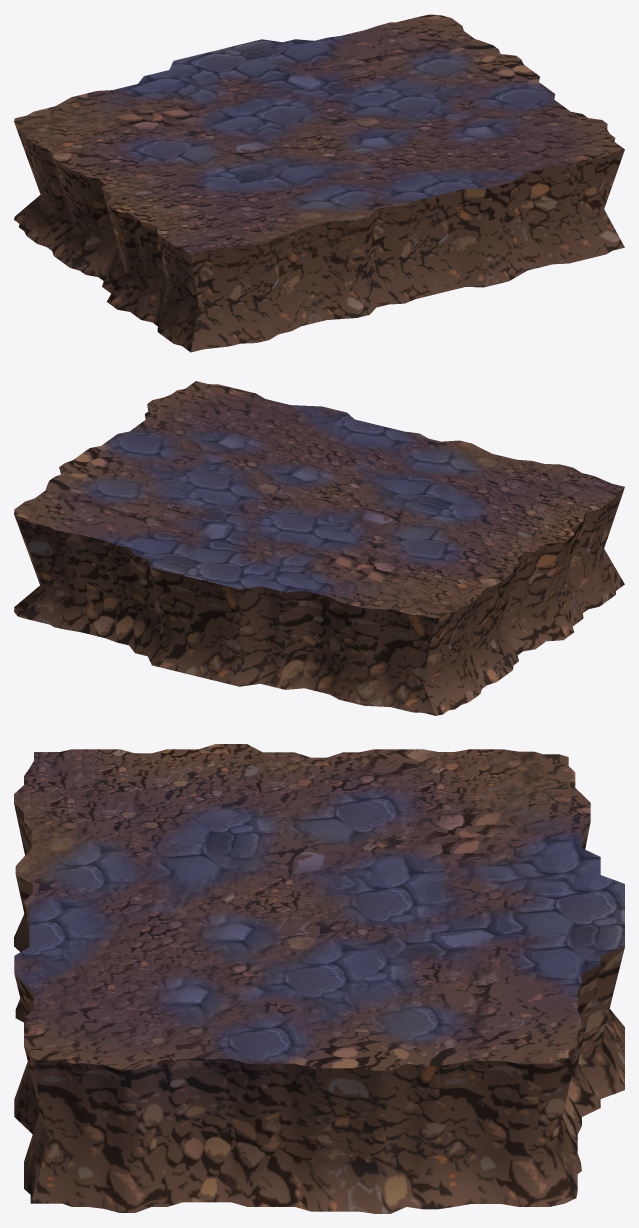
File: Ground (1).fbx
3 renders of one model, top to bottom at view 1: azimuth 30°, elevation 25°; view 2: azimuth 150°, elevation 25°; view 3: azimuth 270°, elevation 25°, orthographic. The views are drawn at different scales.
Visible parts, largest first — view 1: pCube1; view 2: pCube1; view 3: pCube1.
Part boxes in pixels (<box>): pCube1: <box>14,14,624,352</box>; pCube1: <box>14,381,624,715</box>; pCube1: <box>14,744,624,1213</box>.
Bounding box in the file's own units: 83.09 × 17 × 65.7.
1 material, 1 textured.
